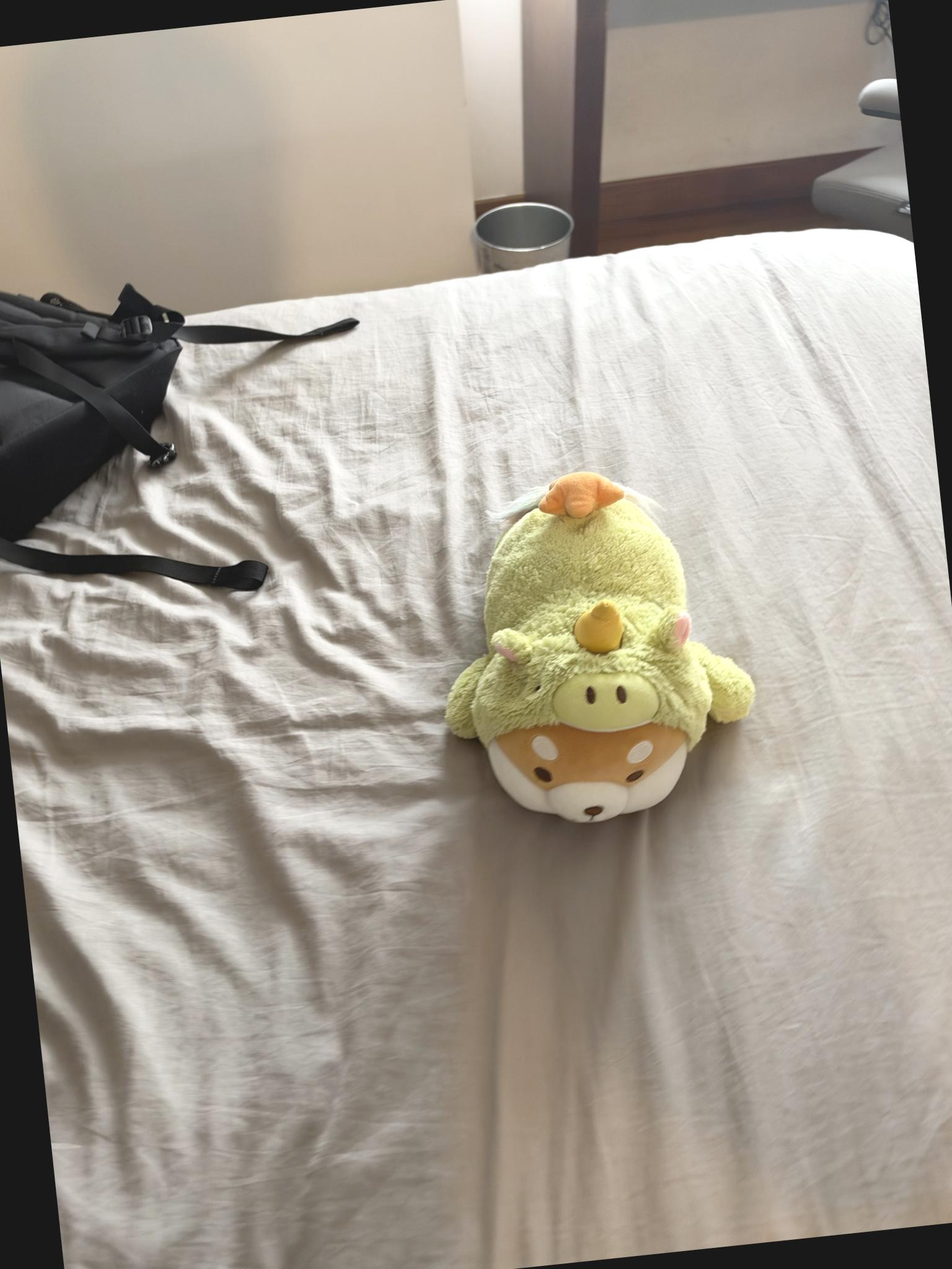peluche_martin: (420, 454, 770, 837)
